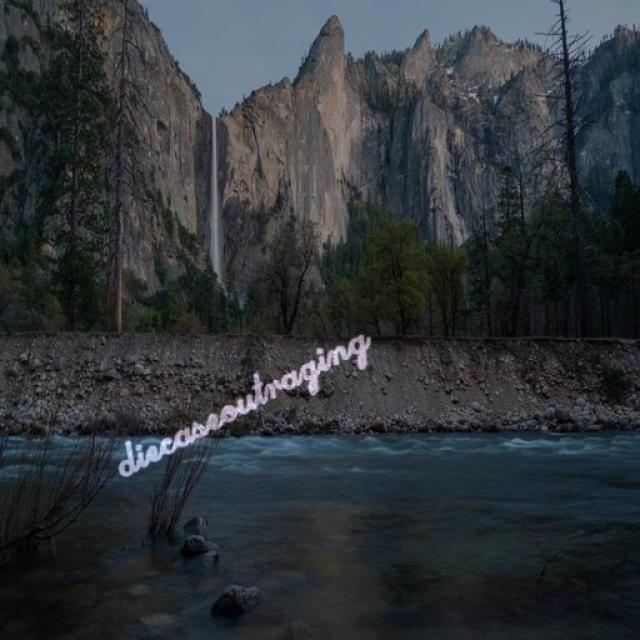watermark: (112, 313, 372, 484)
